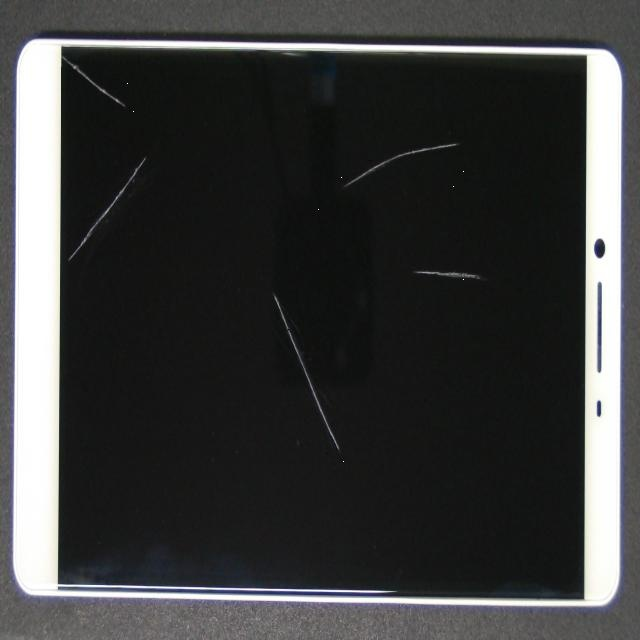scratch: (102, 78, 421, 515), (236, 148, 640, 444), (178, 65, 491, 284), (63, 68, 191, 204)
